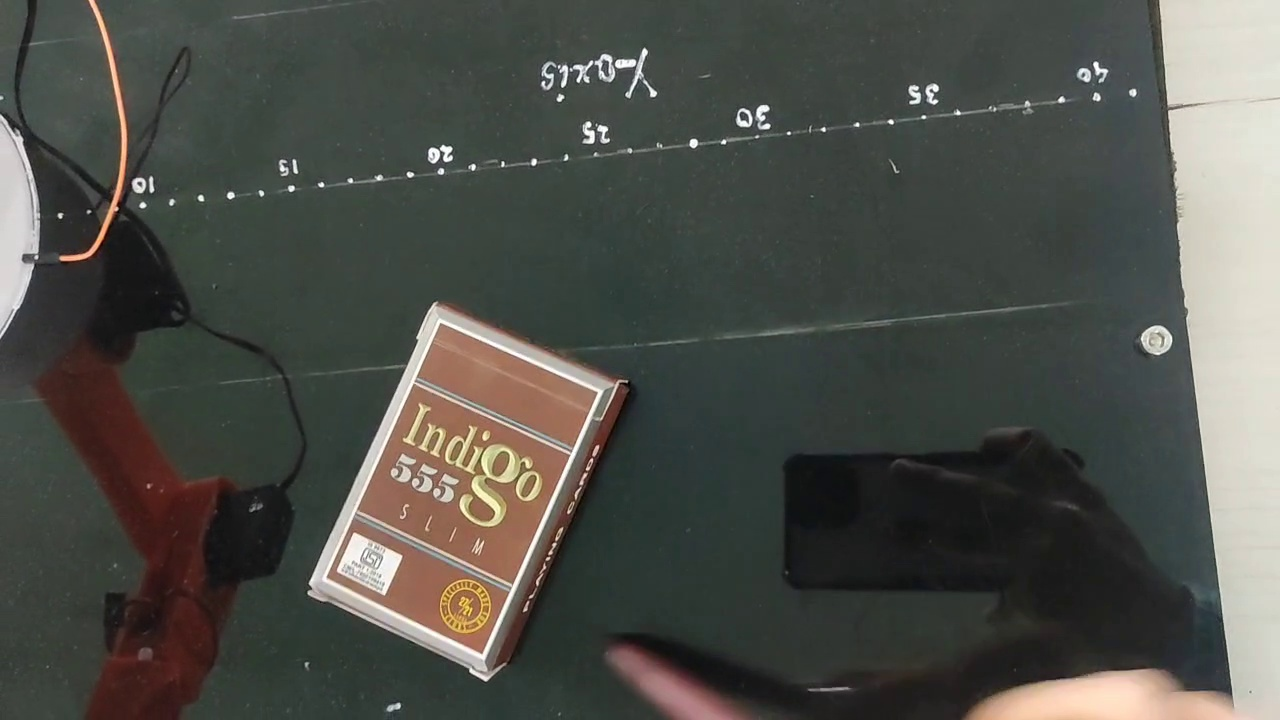BEX: (327, 320, 598, 652)
